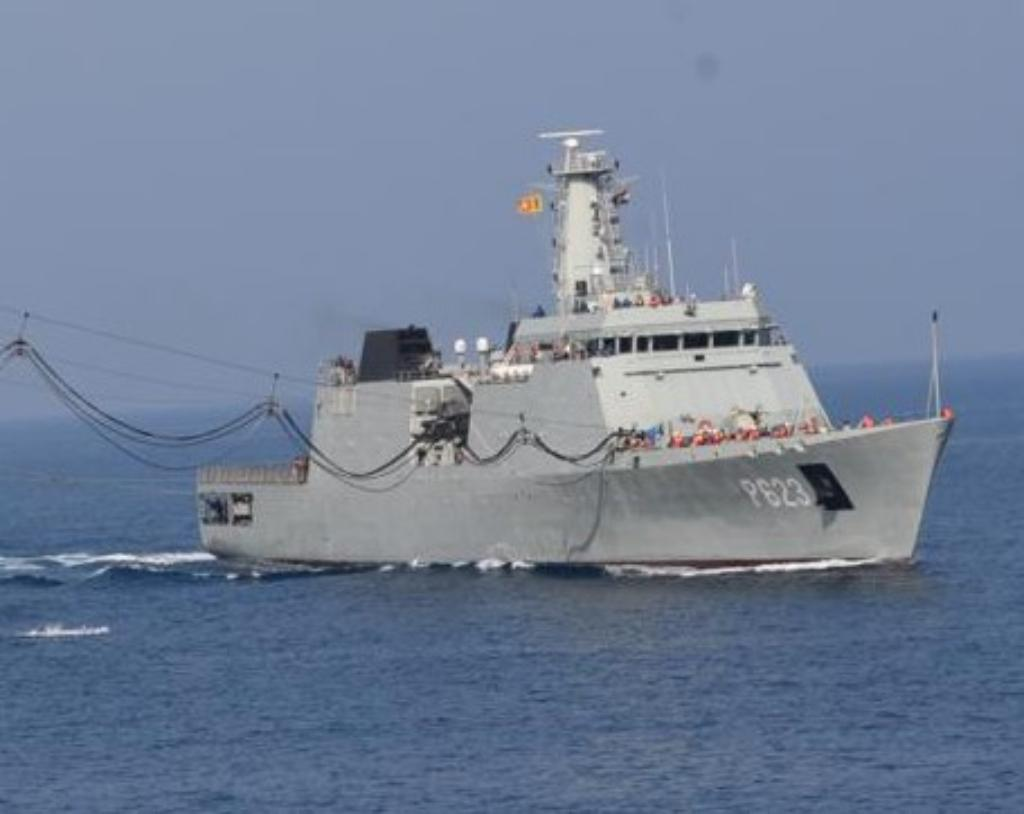Warship: (193, 118, 955, 584)
